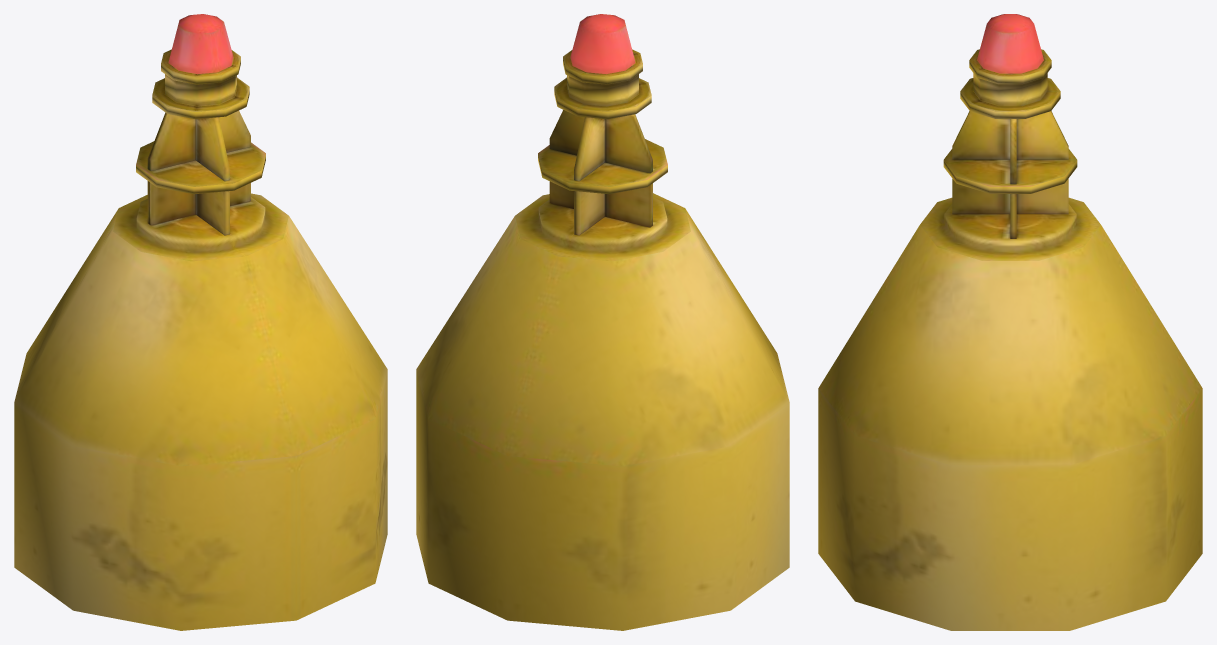
File: Buoy.glb
3 renders of one model, left to right at view 1: azimuth 30°, elevation 25°; view 2: azimuth 150°, elevation 25°; view 3: azimuth 270°, elevation 25°, orthographic.
Visible parts, largest first — view 1: low; view 2: low; view 3: low.
Boxes of the visible parts, x1=… form: low: x1=14, y1=14, x2=387, y2=630; low: x1=416, y1=14, x2=789, y2=630; low: x1=818, y1=14, x2=1202, y2=630.
Bounding box in the file's own units: 2.28 × 3.69 × 2.4.
Materials: 1 (1 with a texture image).
